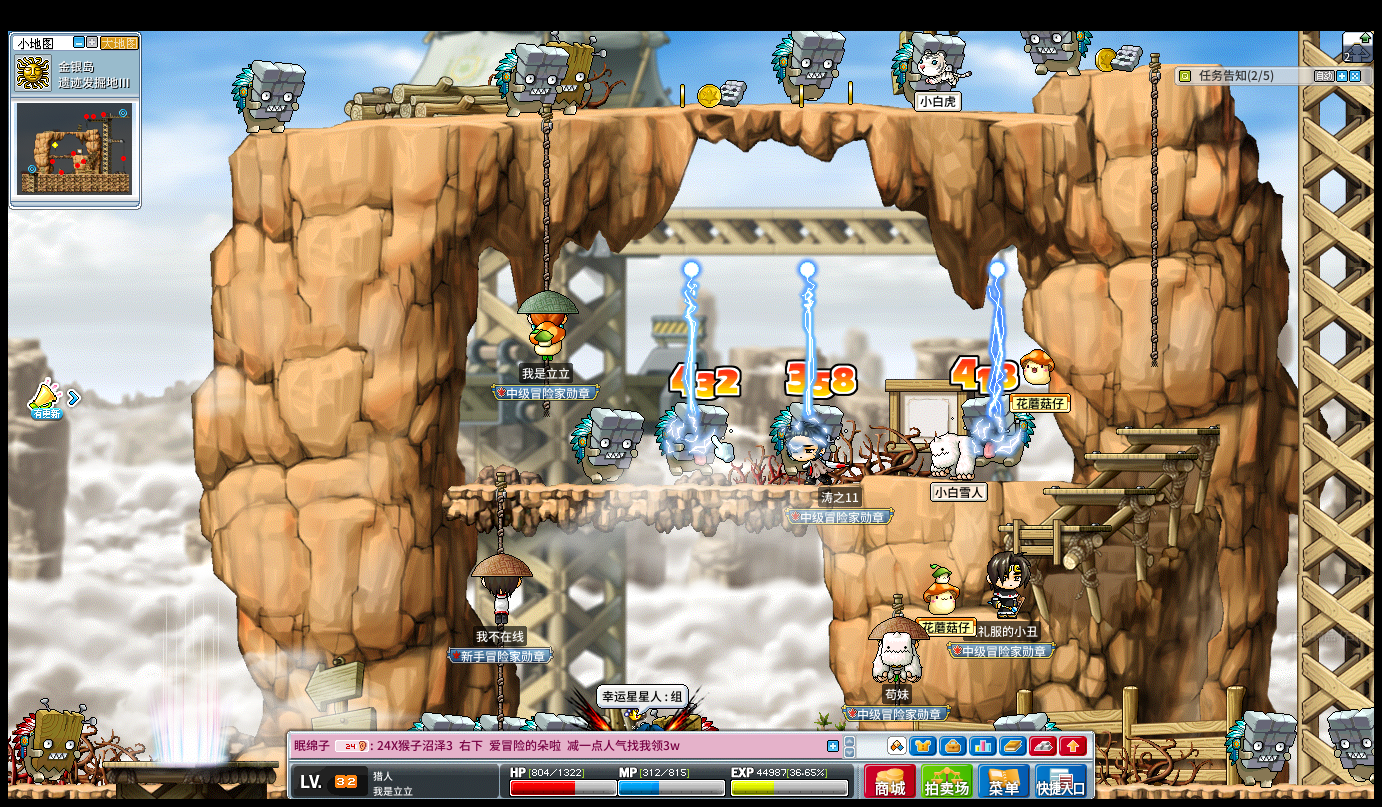floor: (260, 99, 1108, 134), (448, 482, 823, 495), (913, 610, 1043, 625), (896, 474, 1082, 484), (901, 477, 1078, 487), (908, 478, 1074, 488), (1052, 62, 1170, 76), (1115, 425, 1220, 435), (1080, 451, 1194, 460), (1041, 487, 1155, 495), (998, 524, 1110, 532)
monster: (10, 701, 98, 786), (654, 401, 730, 484), (768, 402, 844, 483), (769, 27, 845, 106), (569, 407, 643, 487), (230, 58, 306, 134), (494, 40, 568, 117), (1224, 711, 1297, 788), (963, 398, 1035, 476), (1326, 708, 1379, 787), (1049, 27, 1087, 75)
rope: (1146, 53, 1160, 374), (540, 97, 551, 341), (540, 101, 552, 283), (491, 475, 505, 554), (495, 662, 504, 713)
